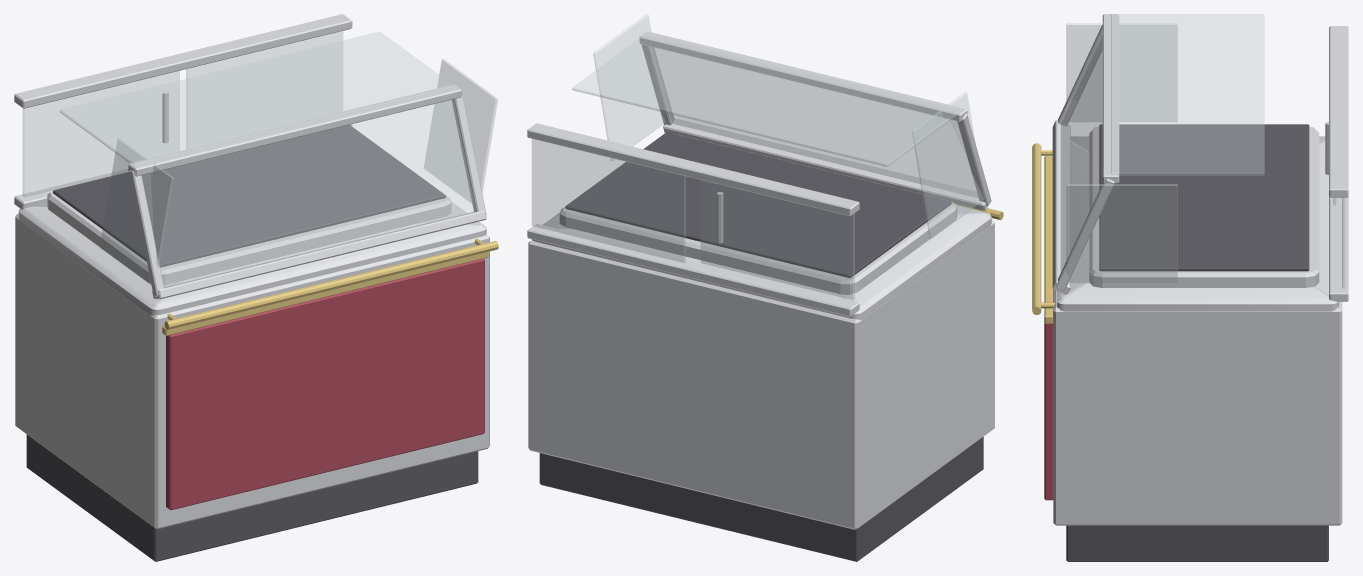
File: butchers-shop-and-deli-counter-serving-counter-module-6ba1254e__34427.glb
The picture shows the model from 3 angles, left to right: view 1: azimuth 30°, elevation 25°; view 2: azimuth 150°, elevation 25°; view 3: azimuth 270°, elevation 25°; orthographic projection. The views are drawn at different scales.
Visible parts, largest first — view 1: serving-counter-module, counter-door/glass; view 2: serving-counter-module, counter-door/glass; view 3: serving-counter-module.
Part boxes in pixels (x1,y1,x2,y2): serving-counter-module: [14, 14, 498, 561]; counter-door/glass: [23, 71, 179, 196]; serving-counter-module: [527, 14, 1003, 561]; counter-door/glass: [701, 180, 854, 300]; serving-counter-module: [1032, 14, 1348, 561].
Size of the model in its own units: 1.25 by 1.31 by 0.964.
